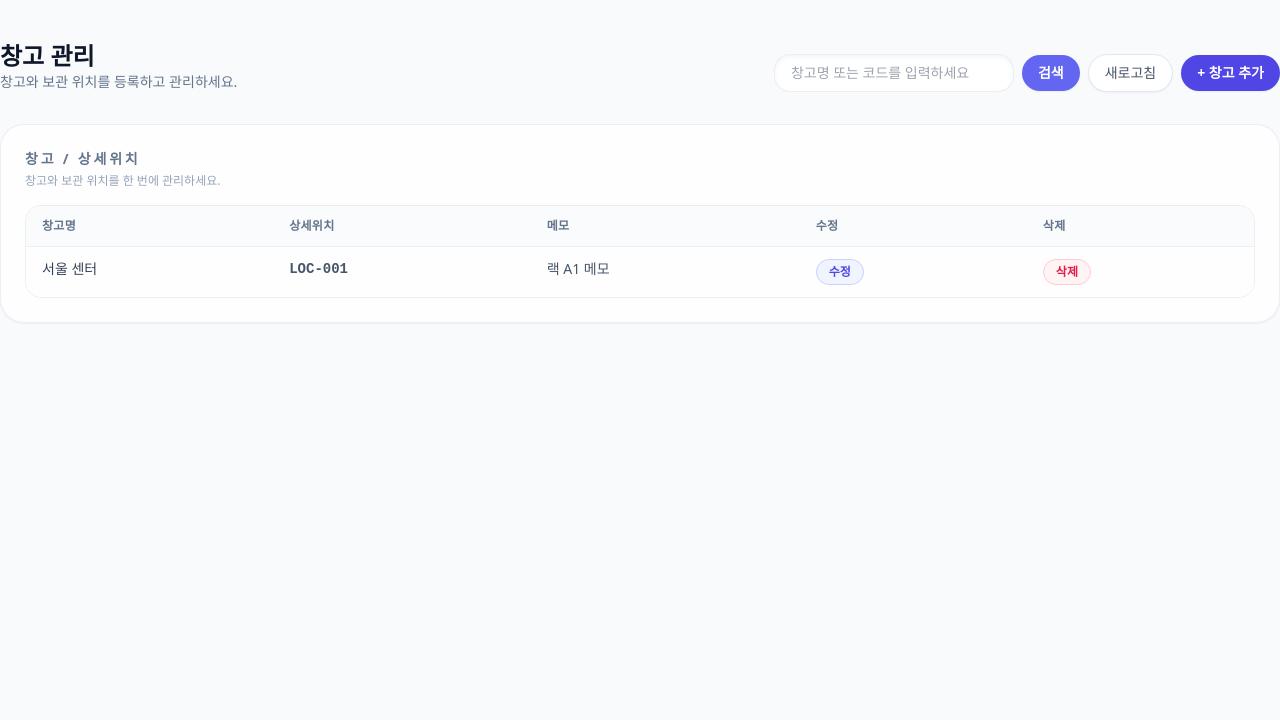
WarehouseManagementPanel - 수정 동작 › opens the edit modal for a location row and saves updates
Check: the text "LOC-001" is shown, box [289, 261, 348, 277]
Click the button "수정" at x=840, y=272, box [816, 259, 864, 285]
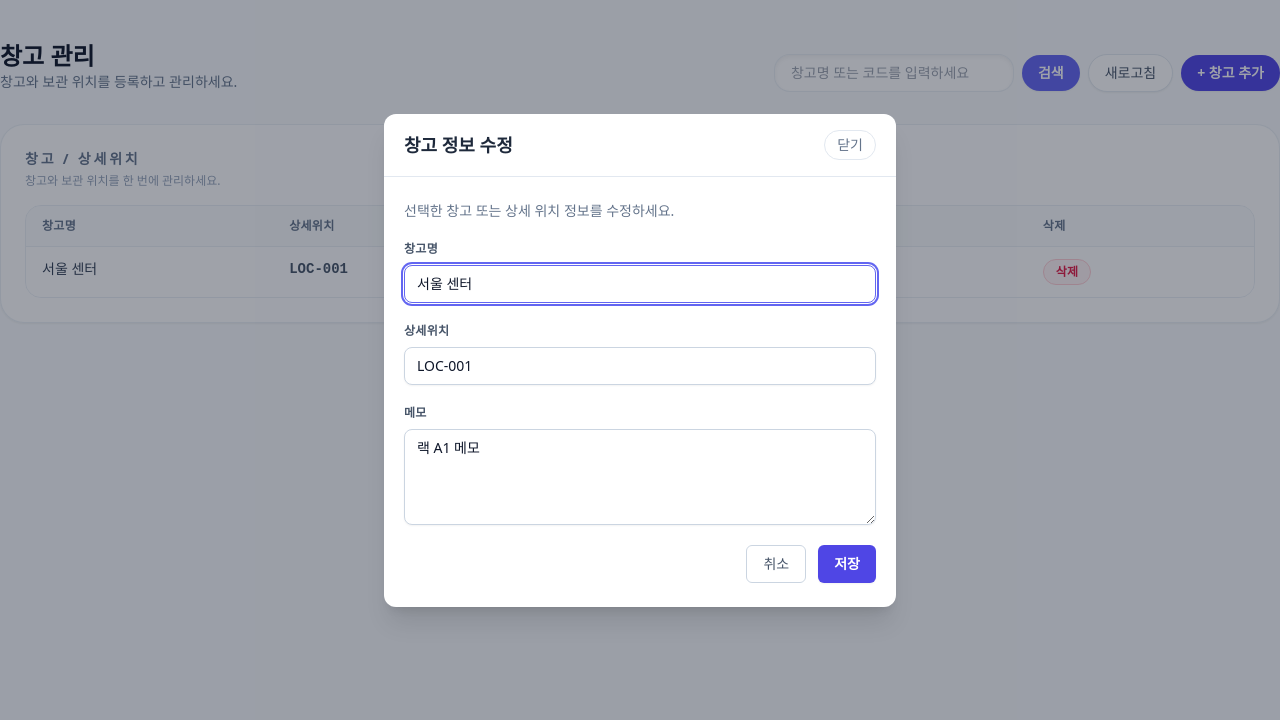
Check: the heading "창고 정보 수정" is shown, box [404, 130, 513, 158]
Check: the field labelled "창고명" holds "서울 센터"
Check: the field labelled "상세위치" holds "LOC-001", box [404, 346, 876, 384]
Replace the text in the field labelled "창고명" with "서울 센터 2" at x=640, y=284, box [404, 264, 876, 302]
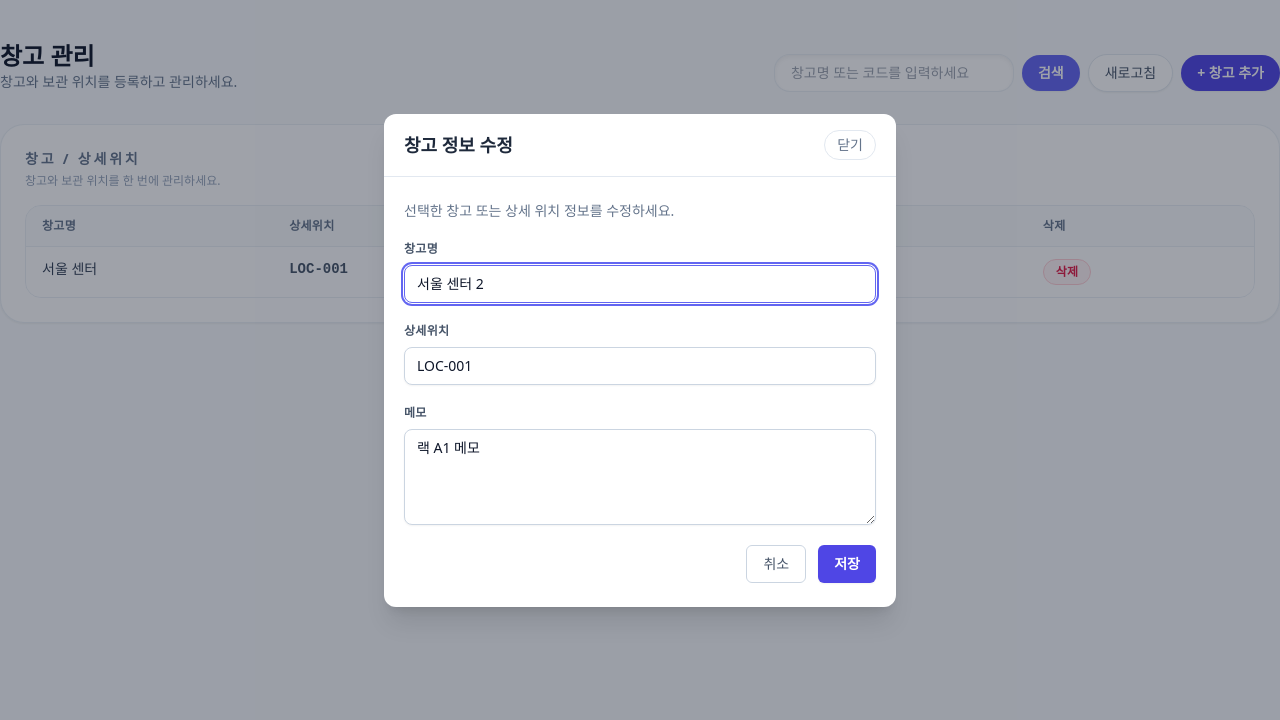
Replace the text in the field labelled "상세위치" with "LOC-010" at x=640, y=366, box [404, 346, 876, 384]
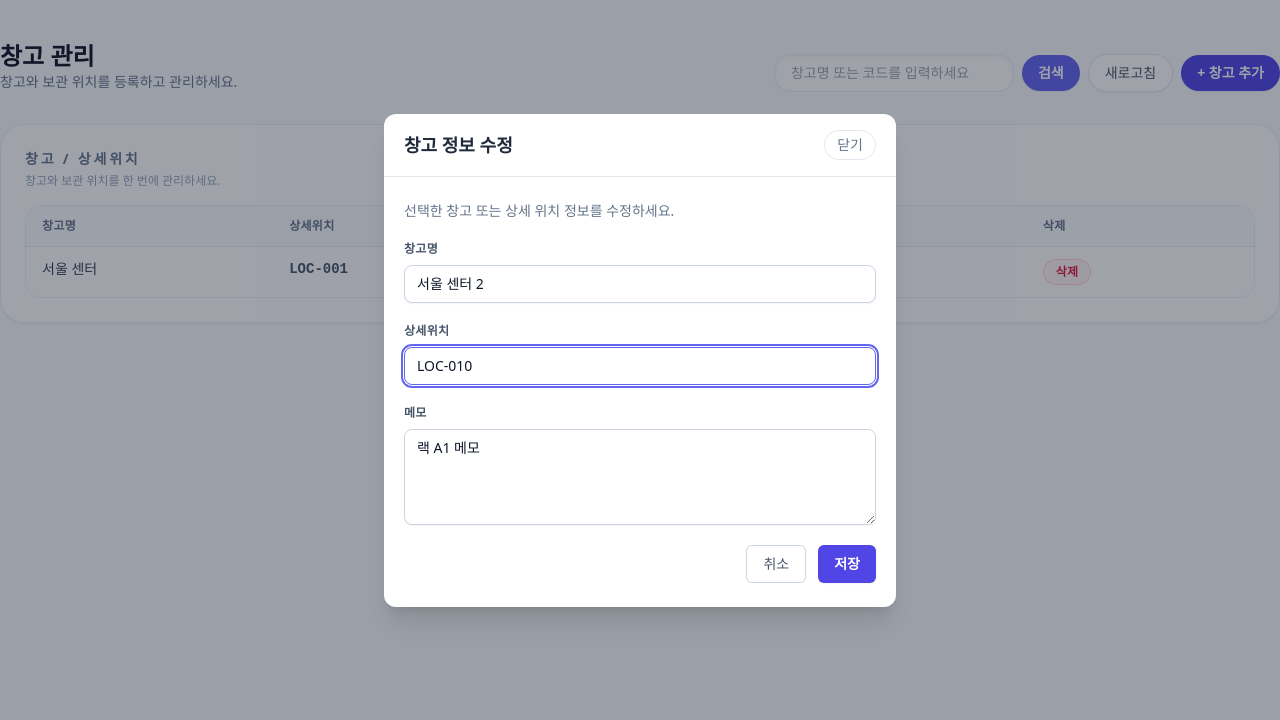
Replace the text in the text box labelled "메모" with "새로운 위치 메모" at x=640, y=476, box [404, 428, 876, 524]
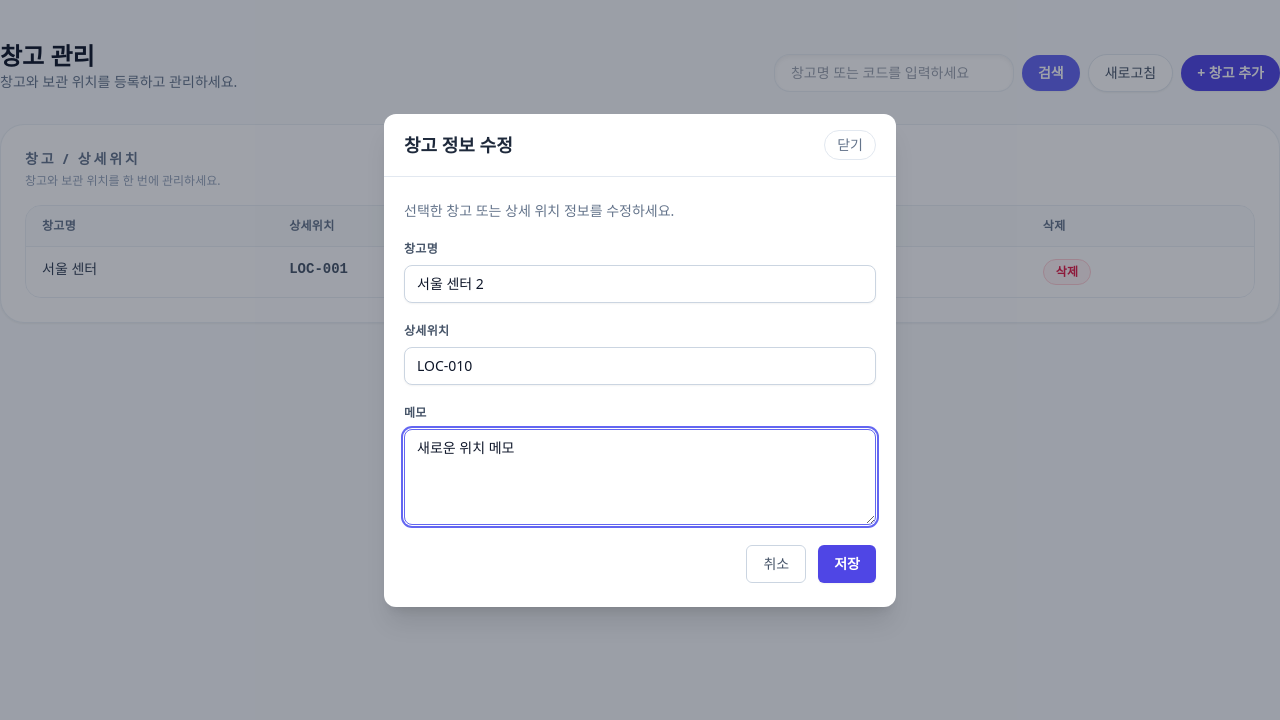
Click the button "저장" at x=847, y=564, box [818, 544, 876, 582]
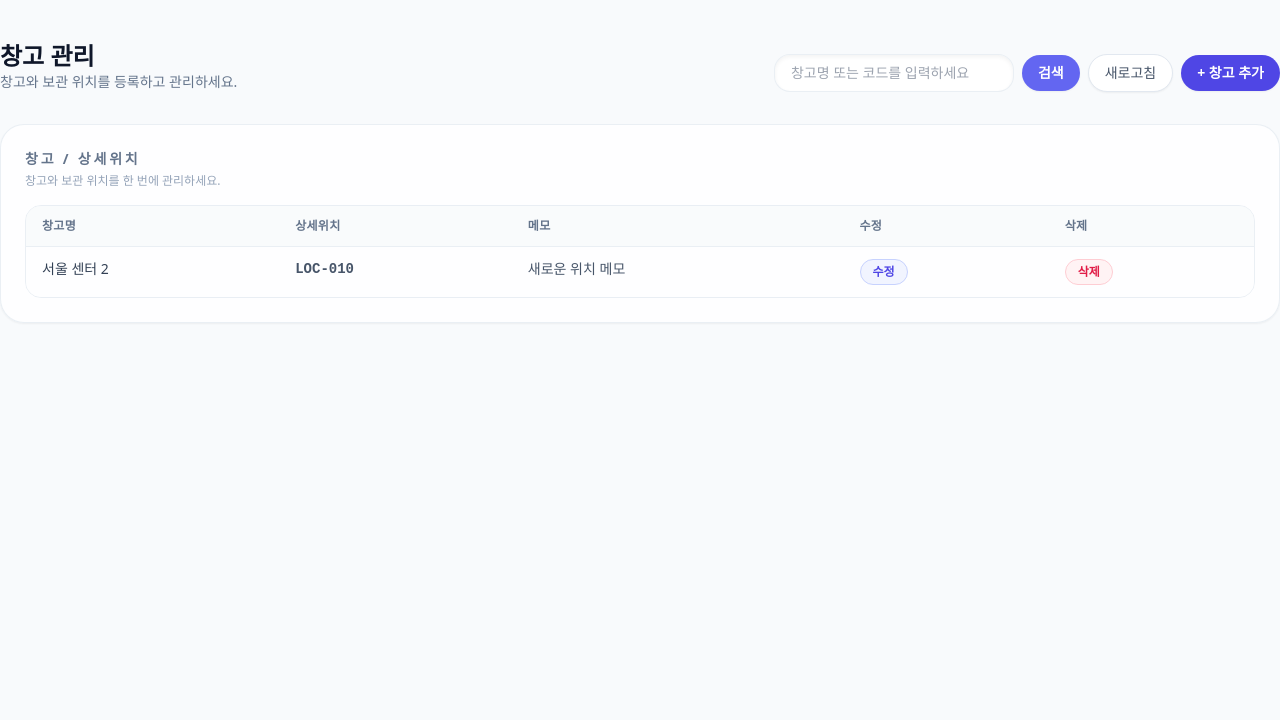
Check: the heading "창고 정보 수정" is gone
Check: the text "LOC-010" is shown, box [295, 261, 354, 277]
Check: the text "새로운 위치 메모" is shown, box [528, 259, 625, 278]
